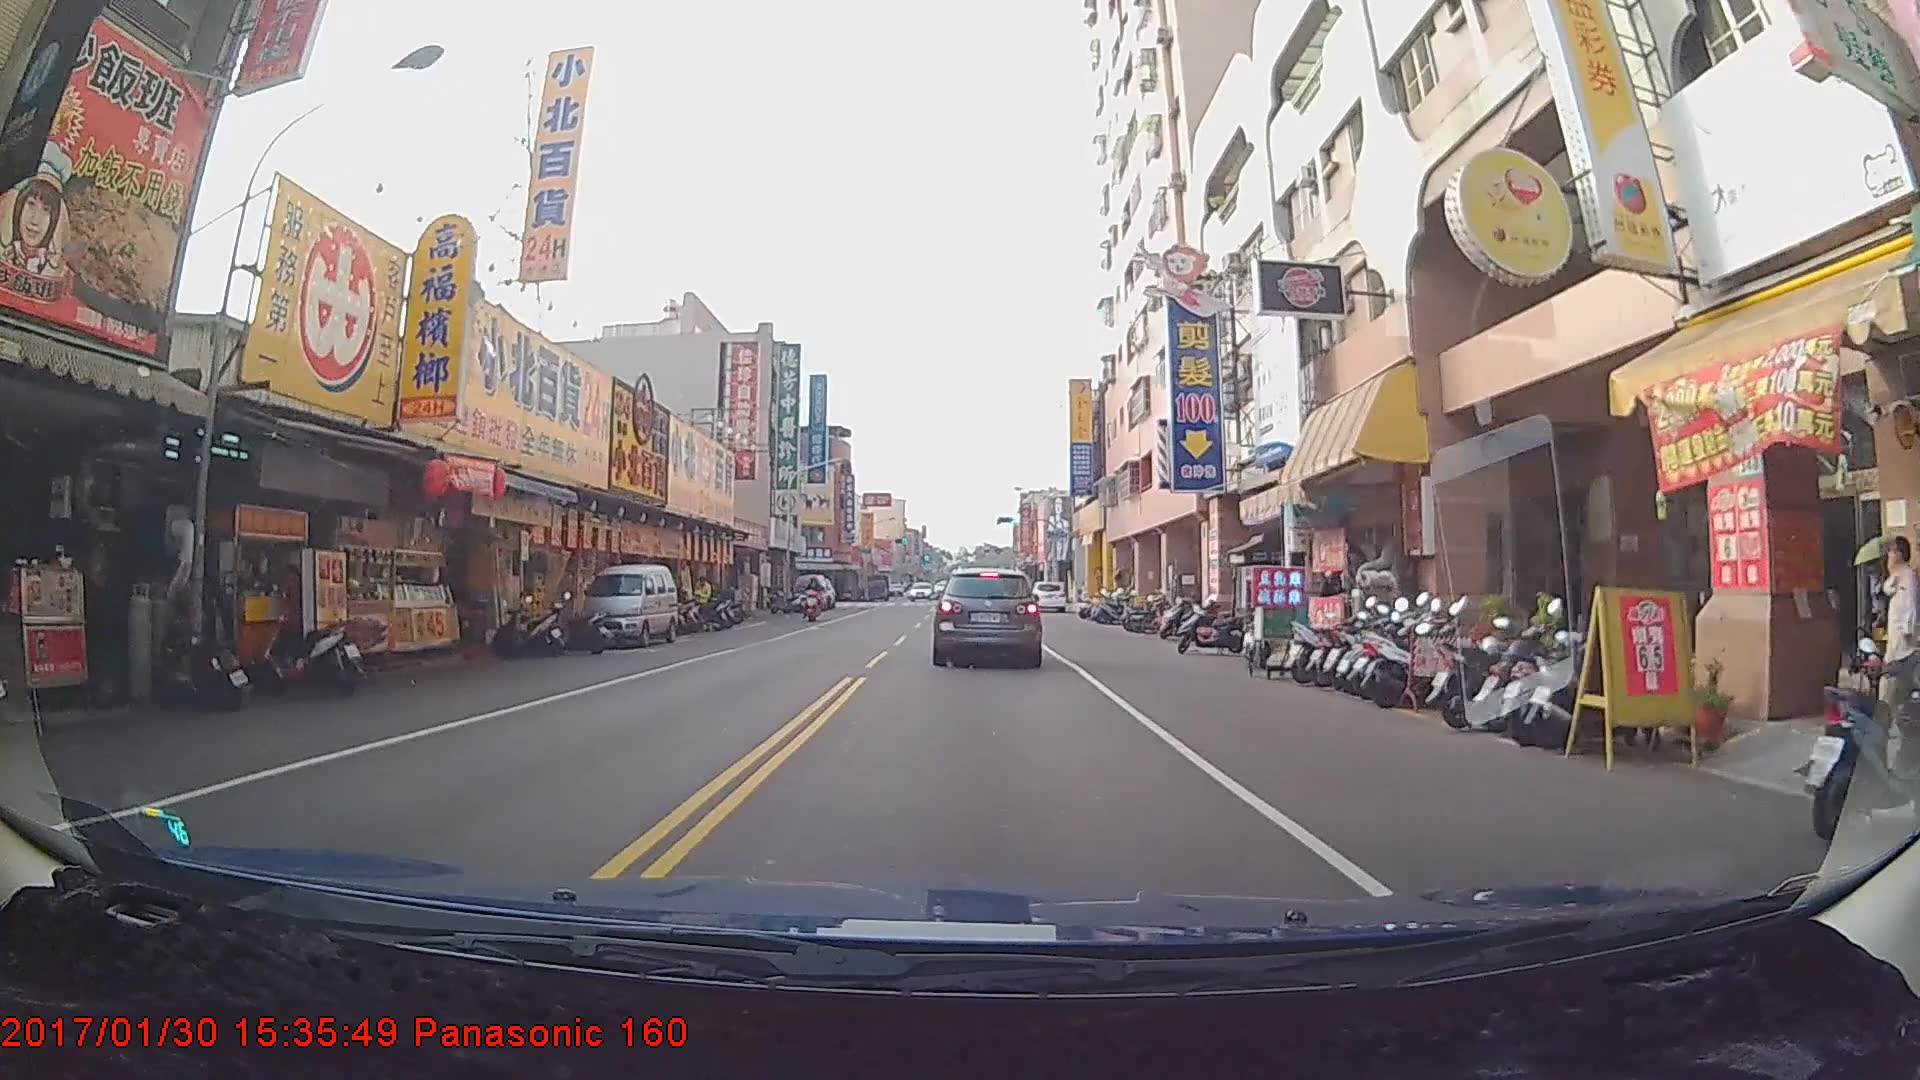pedestrian: (1875, 534, 1920, 739), (686, 575, 714, 627)
rider: (802, 575, 826, 623)
vehicle: (934, 564, 1043, 668), (576, 562, 678, 645), (794, 572, 829, 611), (1030, 581, 1066, 613)
